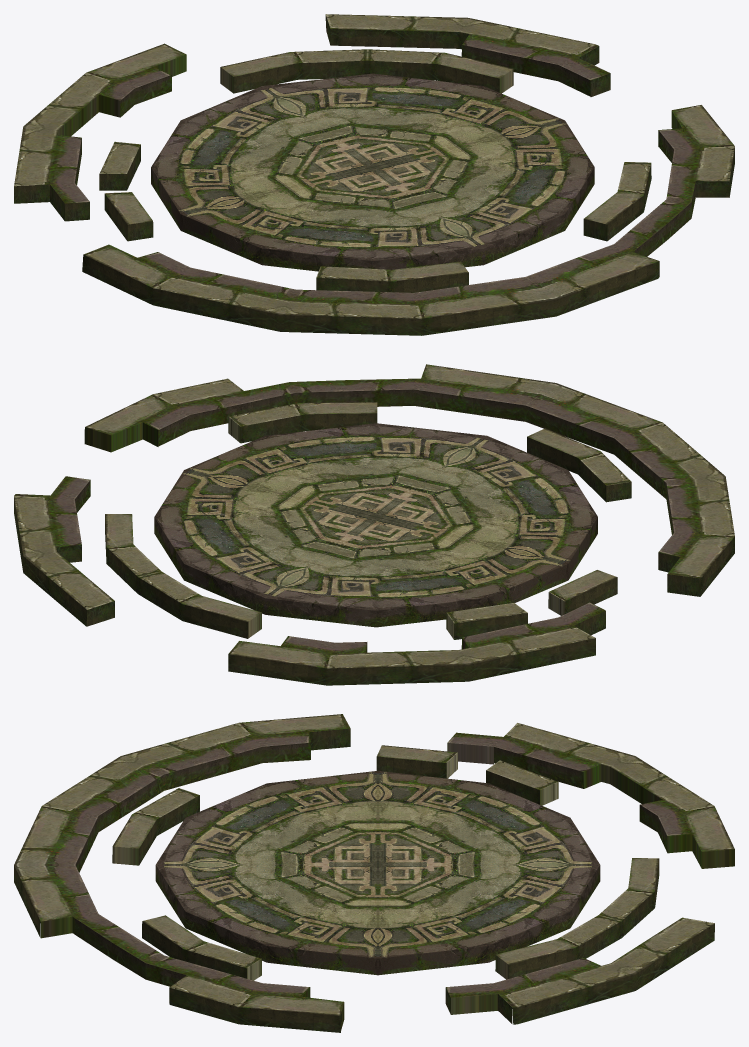
The model's file is yw_huanghunyaosai_yuantai01.FBX.
3 renders of one model, top to bottom at view 1: azimuth 30°, elevation 25°; view 2: azimuth 150°, elevation 25°; view 3: azimuth 270°, elevation 25°, orthographic.
Visible parts, largest first — view 1: yw_huanghunyaosai_yuantai01; view 2: yw_huanghunyaosai_yuantai01; view 3: yw_huanghunyaosai_yuantai01.
Part boxes in pixels (x1=…): yw_huanghunyaosai_yuantai01: x1=14, y1=14, x2=734, y2=335; yw_huanghunyaosai_yuantai01: x1=14, y1=364, x2=734, y2=685; yw_huanghunyaosai_yuantai01: x1=14, y1=714, x2=734, y2=1032.
Size of the model in its own units: 1054 by 29.93 by 1064.
